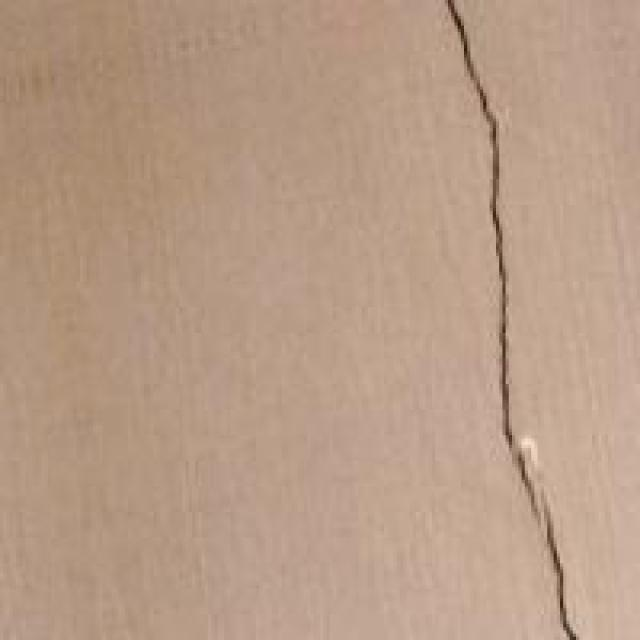crack: (420, 0, 590, 638)
